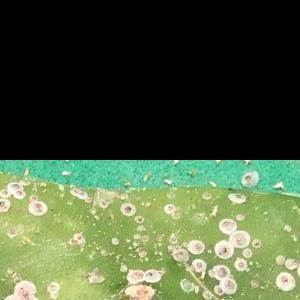Femea: (241, 170, 260, 187), (277, 272, 293, 290), (226, 239, 243, 255), (216, 224, 231, 242), (16, 283, 33, 297), (126, 269, 143, 282), (216, 242, 230, 257), (187, 241, 202, 253), (224, 278, 237, 291), (144, 267, 155, 282), (121, 202, 134, 214), (215, 266, 229, 277), (233, 259, 246, 270), (28, 202, 43, 211), (191, 259, 202, 270), (13, 190, 26, 199), (231, 192, 244, 201), (10, 183, 22, 192), (0, 198, 9, 210), (212, 285, 224, 294), (165, 204, 176, 211), (252, 238, 260, 247), (201, 290, 211, 297), (0, 189, 9, 196)
Linfa: (136, 237, 163, 255), (152, 234, 166, 261), (142, 221, 162, 239)
